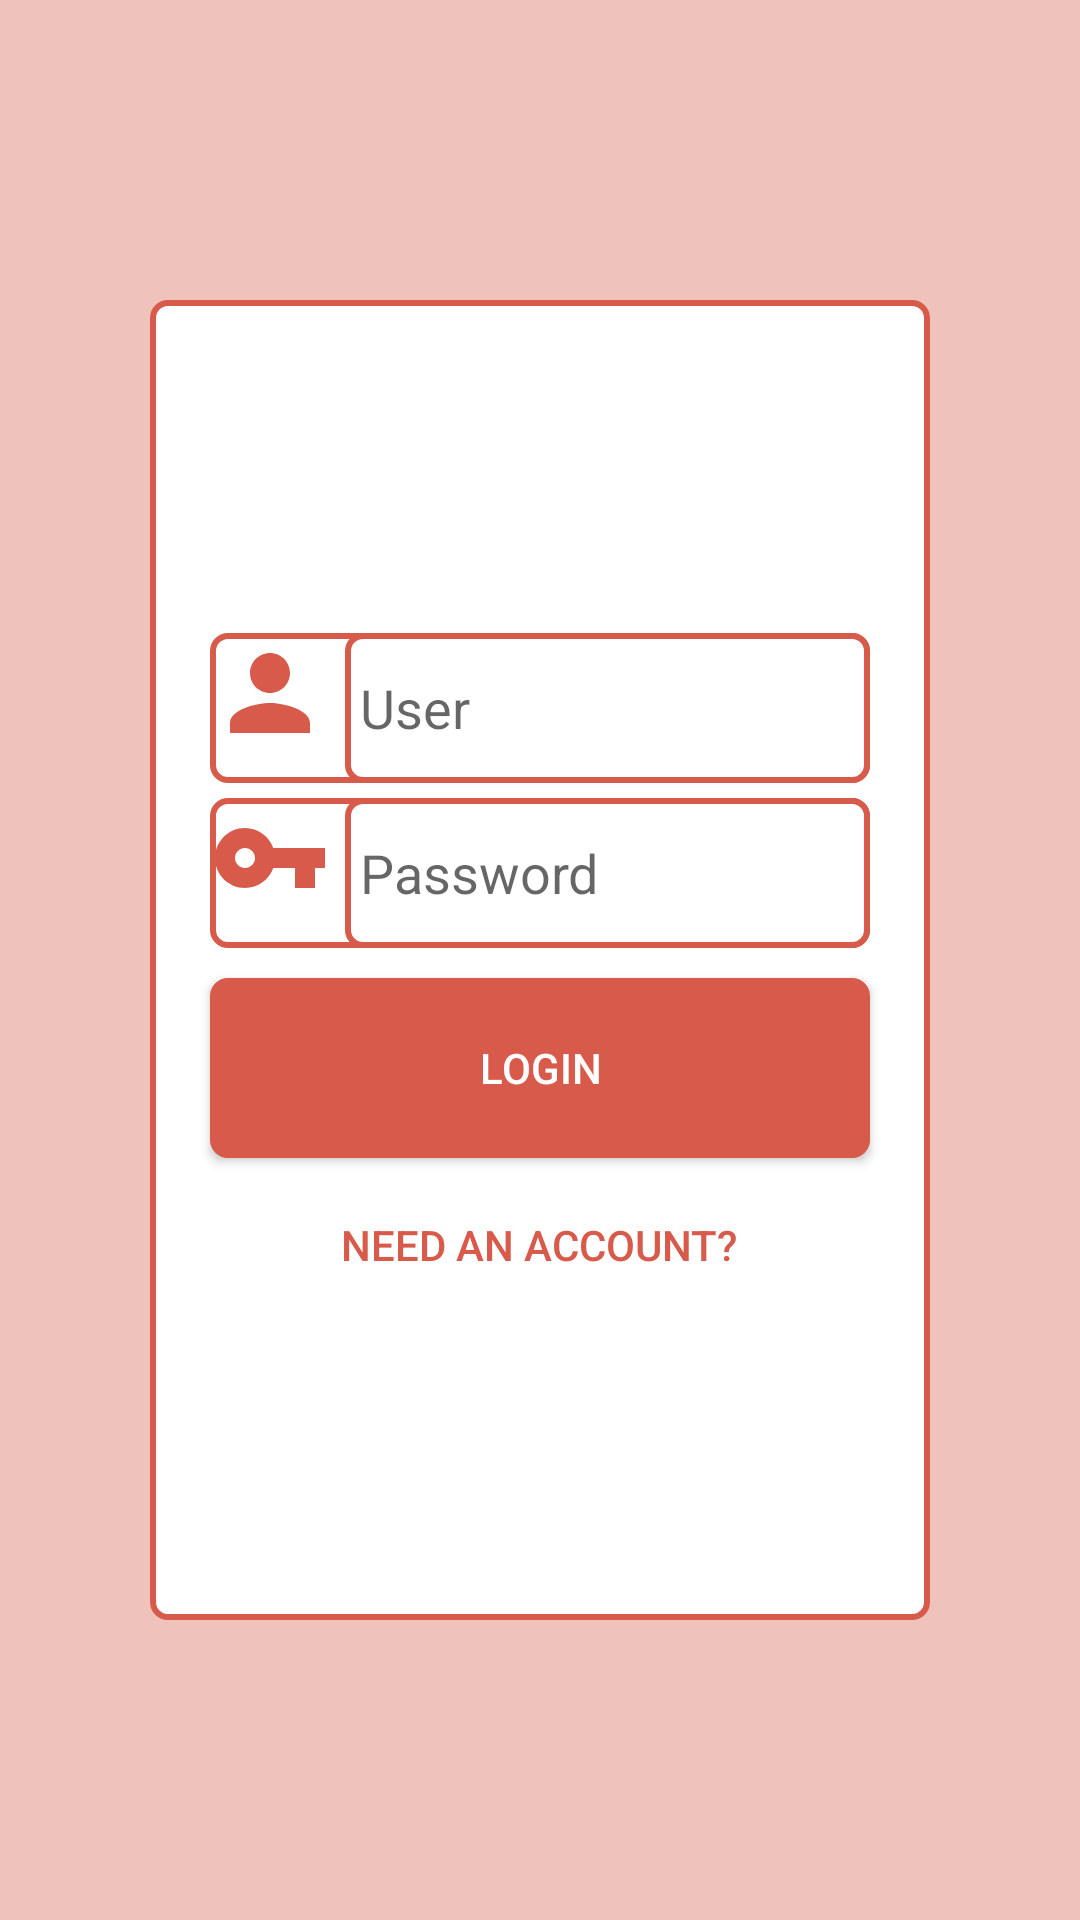

Where to tap for icons on this 1080 × 1920 app screen, as (x=x, y=y):
person: (x=270, y=693)
vpn key: (x=270, y=858)
